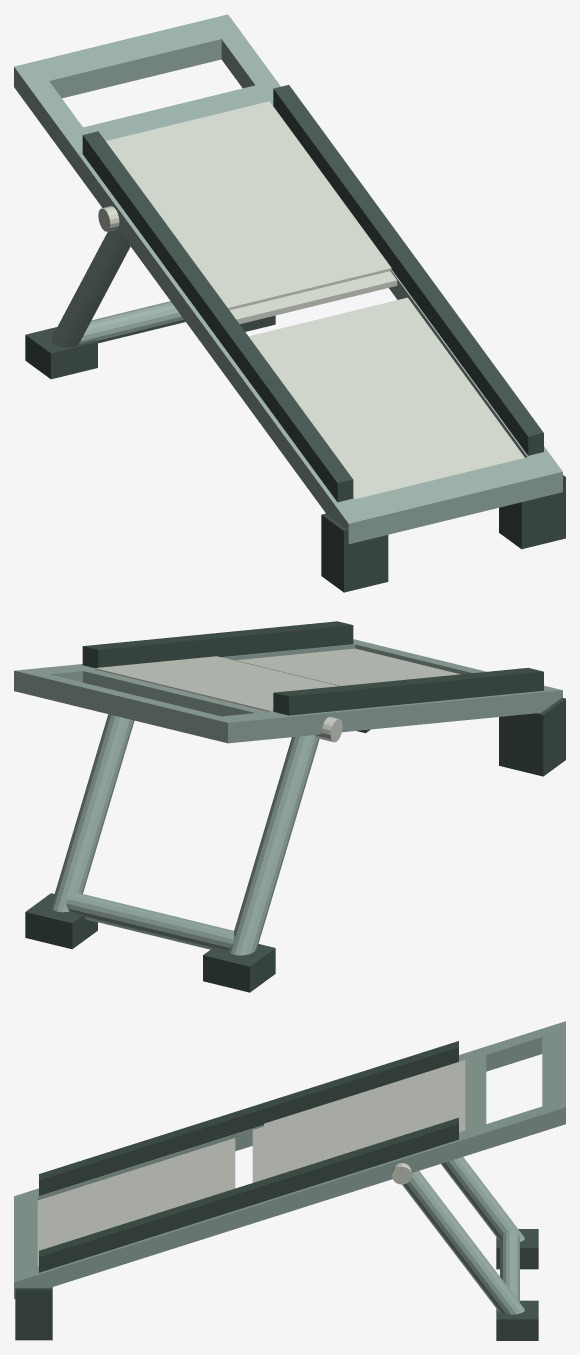
3 views of the same model, one above another, from view 1: azimuth 30°, elevation 25°; view 2: azimuth 150°, elevation 25°; view 3: azimuth 270°, elevation 25° (orthographic). The views are drawn at different scales.
Parts seen in each view (by area): view 1: WholeOpenMainFrameAndUpperHandGrip, WholeUpperFeedDeck, WholeLowerReceivingDeck, WholeLongRaisedSideGuide_-1, WholeLongRaisedSideGuide_1, WholeFrontGroundPad_-1, WholeRearSupportLeg_-1, WholeFrontGroundPad_1, WholeFixedBluntTransversePlate, WholeRearGroundPad_-1, WholeRearSupportCrossbar; view 2: WholeOpenMainFrameAndUpperHandGrip, WholeLongRaisedSideGuide_-1, WholeLongRaisedSideGuide_1, WholeRearSupportLeg_-1, WholeUpperFeedDeck, WholeRearSupportLeg_1, WholeLowerReceivingDeck, WholeRearSupportCrossbar, WholeFrontGroundPad_-1, WholeRearGroundPad_-1, WholeRearGroundPad_1, WholeRearSupportTransversePin; view 3: WholeOpenMainFrameAndUpperHandGrip, WholeUpperFeedDeck, WholeLowerReceivingDeck, WholeLongRaisedSideGuide_1, WholeLongRaisedSideGuide_-1, WholeRearSupportLeg_1, WholeRearSupportLeg_-1, WholeFrontGroundPad_1, WholeRearGroundPad_1, WholeRearSupportCrossbar, WholeRearGroundPad_-1, WholeFixedBluntTransversePlate.
Boxes of the visible parts, bbox=[...] form: WholeOpenMainFrameAndUpperHandGrip: bbox=[14, 14, 562, 544]; WholeUpperFeedDeck: bbox=[106, 101, 391, 310]; WholeLowerReceivingDeck: bbox=[249, 297, 524, 498]; WholeLongRaisedSideGuide_-1: bbox=[82, 131, 353, 502]; WholeLongRaisedSideGuide_1: bbox=[273, 85, 543, 455]; WholeFrontGroundPad_-1: bbox=[321, 513, 388, 592]; WholeRearSupportLeg_-1: bbox=[51, 229, 130, 347]; WholeFrontGroundPad_1: bbox=[499, 475, 565, 549]; WholeFixedBluntTransversePlate: bbox=[229, 271, 397, 323]; WholeRearGroundPad_-1: bbox=[25, 327, 97, 379]; WholeRearSupportCrossbar: bbox=[79, 301, 185, 343]; WholeOpenMainFrameAndUpperHandGrip: bbox=[14, 639, 562, 743]; WholeLongRaisedSideGuide_-1: bbox=[273, 668, 543, 715]; WholeLongRaisedSideGuide_1: bbox=[82, 621, 353, 667]; WholeRearSupportLeg_-1: bbox=[228, 735, 319, 955]; WholeUpperFeedDeck: bbox=[94, 656, 339, 711]; WholeRearSupportLeg_1: bbox=[51, 714, 134, 912]; WholeLowerReceivingDeck: bbox=[235, 648, 459, 685]; WholeRearSupportCrossbar: bbox=[65, 893, 234, 950]; WholeFrontGroundPad_-1: bbox=[499, 697, 565, 776]; WholeRearGroundPad_-1: bbox=[203, 944, 275, 992]; WholeRearGroundPad_1: bbox=[25, 893, 97, 949]; WholeRearSupportTransversePin: bbox=[314, 717, 342, 742]; WholeOpenMainFrameAndUpperHandGrip: bbox=[14, 1021, 565, 1298]; WholeUpperFeedDeck: bbox=[264, 1060, 465, 1179]; WholeLowerReceivingDeck: bbox=[37, 1138, 235, 1266]; WholeLongRaisedSideGuide_1: bbox=[39, 1117, 458, 1272]; WholeLongRaisedSideGuide_-1: bbox=[39, 1041, 458, 1195]; WholeRearSupportLeg_1: bbox=[402, 1171, 524, 1314]; WholeRearSupportLeg_-1: bbox=[441, 1157, 524, 1241]; WholeFrontGroundPad_1: bbox=[15, 1287, 52, 1340]; WholeRearGroundPad_1: bbox=[496, 1300, 538, 1340]; WholeRearSupportCrossbar: bbox=[500, 1231, 519, 1302]; WholeRearGroundPad_-1: bbox=[496, 1229, 538, 1269]; WholeFixedBluntTransversePlate: bbox=[252, 1126, 263, 1182].
Size of the model in its own units: 0.178 by 0.2054 by 0.444.
